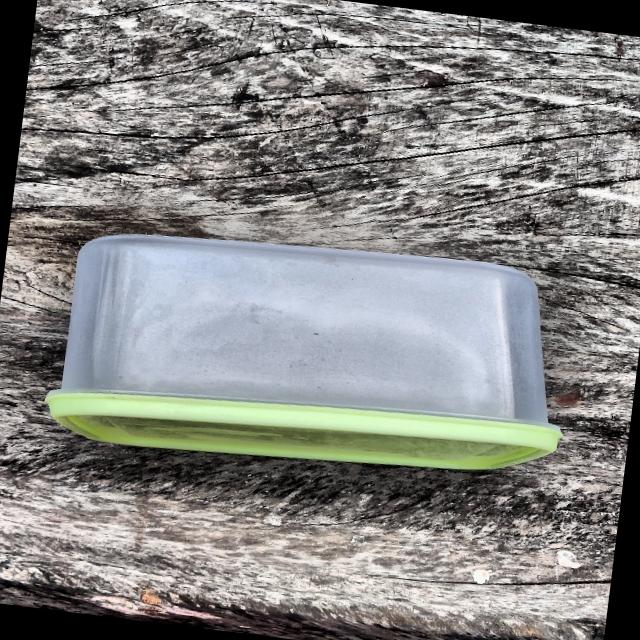plastic container: (35, 199, 608, 508)
